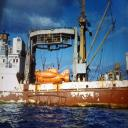submarine: (36, 68, 71, 83)
